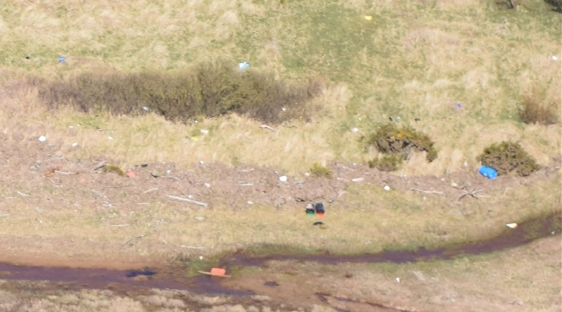scattered_barrel: (20, 126, 169, 204)
straight_bar: (164, 185, 215, 218)
white_in_green: (284, 185, 344, 235), (459, 147, 519, 197), (189, 244, 242, 293), (486, 205, 538, 246), (37, 33, 83, 79), (223, 44, 267, 86), (345, 1, 391, 38)
